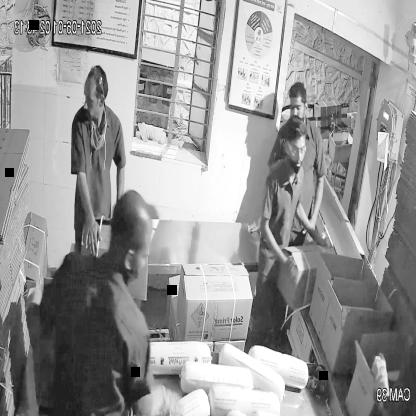goggles: (285, 140, 307, 161)
no_goggles: (80, 87, 113, 110), (288, 102, 312, 118)
